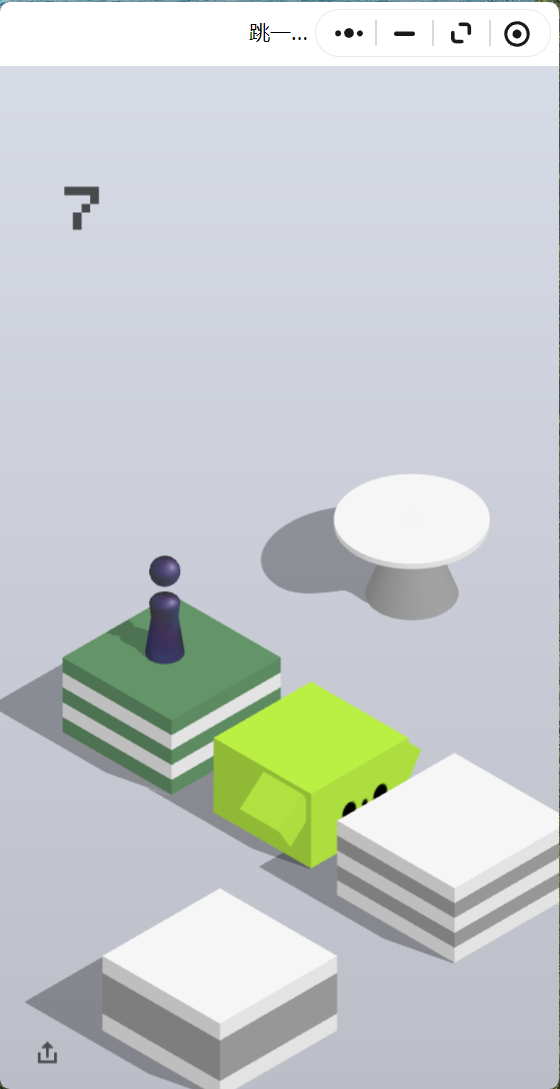piece: (149, 555, 180, 660)
target: (333, 473, 490, 563)
